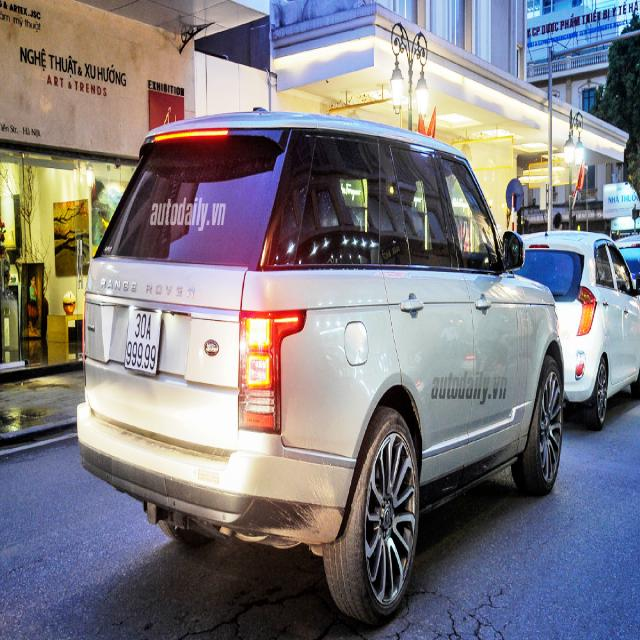license_plate: (124, 307, 165, 377)
